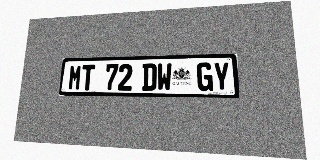2: (118, 64, 132, 91)
7: (104, 64, 119, 91)
D: (142, 63, 157, 91)
G: (197, 62, 213, 91)
M: (68, 65, 82, 90)
T: (81, 64, 95, 90)
W: (157, 63, 172, 91)
Y: (213, 62, 230, 91)
